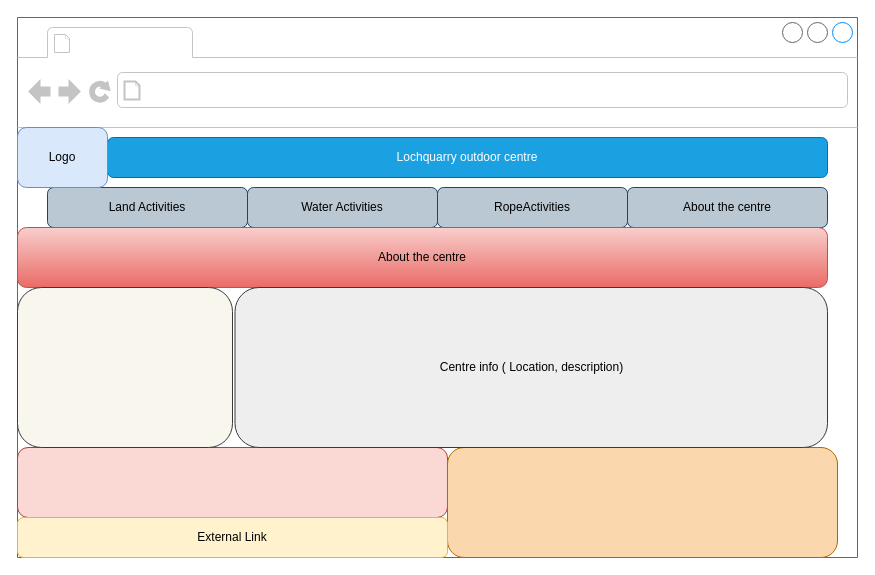
The diagram is 875 pixels wide and 575 high, and some of its shapes have lost their labels. The box of each missing label's shape, as (x1, y1, x2, y2) in pixels:
Contact and Booking details: (446, 446, 838, 558)
Homepage: (76, 28, 188, 56)
https://www.landbased: (146, 76, 398, 104)
Image: (16, 286, 232, 448)
Information about staff: (16, 446, 448, 518)
